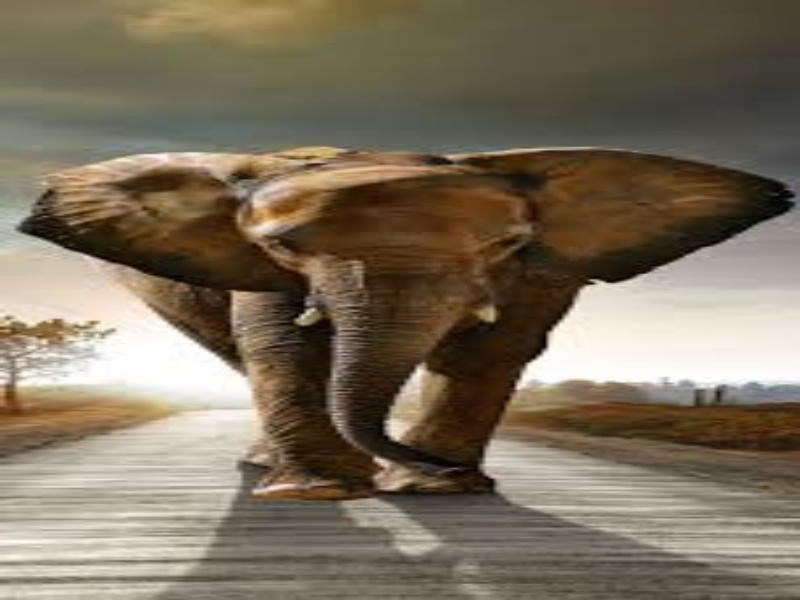elephant: (12, 130, 795, 506)
